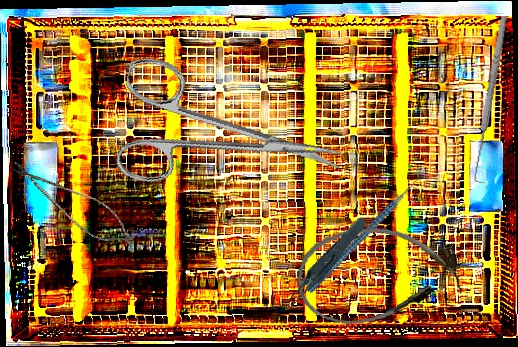Cannula: (293, 221, 464, 328)
Chopper: (279, 162, 451, 295)
Hook Surgical: (469, 15, 515, 184)
Iris Scissors: (105, 54, 354, 224)
Micro Scissor: (3, 152, 142, 256)
Tissue Forceps: (263, 215, 382, 311)
